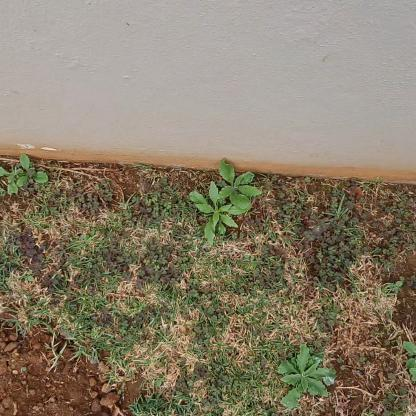Weeds: (278, 346, 339, 414), (187, 181, 246, 247), (214, 154, 259, 209), (18, 153, 50, 187), (1, 166, 23, 196), (385, 280, 404, 296)
